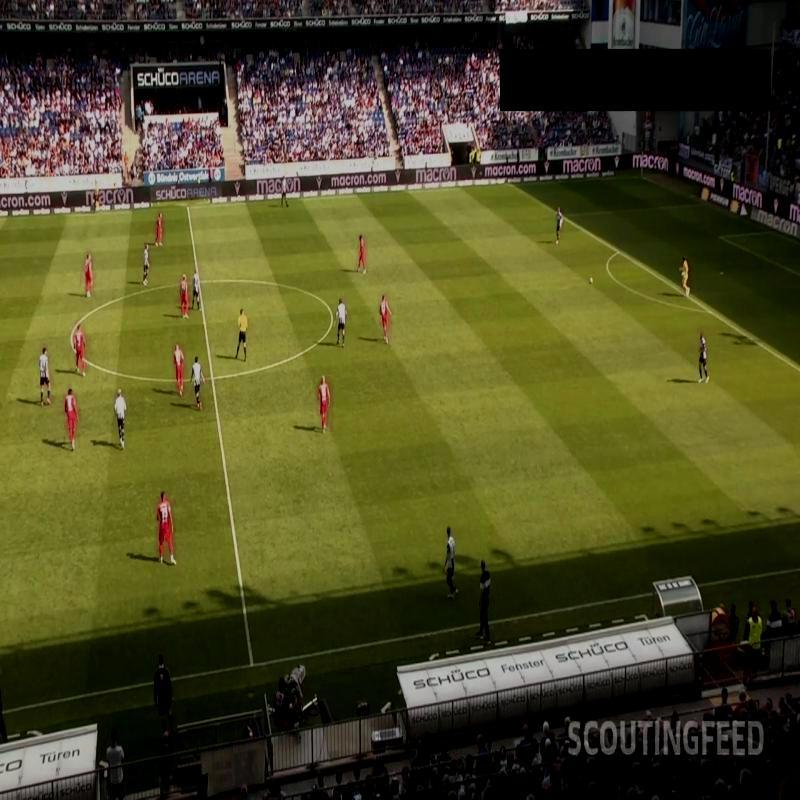1: (634, 170, 648, 184)
10: (611, 242, 626, 260)
11: (702, 302, 716, 320)
13: (182, 199, 196, 213)
14: (190, 275, 204, 289)
15: (205, 370, 219, 384)
16: (243, 655, 258, 673)
2: (698, 195, 712, 209)
3: (767, 224, 781, 238)
7: (713, 231, 727, 244)
9: (558, 209, 572, 223)
c: (324, 305, 339, 321), (66, 331, 80, 345)
